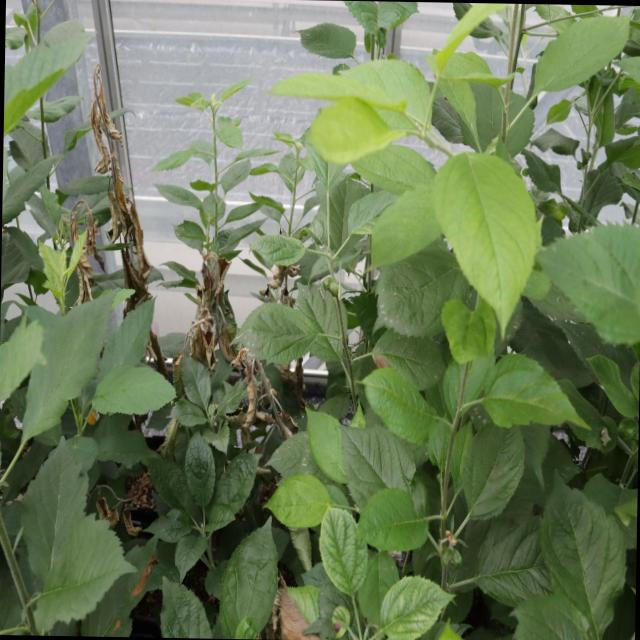-FireBlight-: (84, 68, 142, 280), (197, 254, 223, 362)
